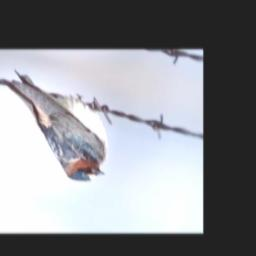Swallow: (0, 65, 123, 187)
